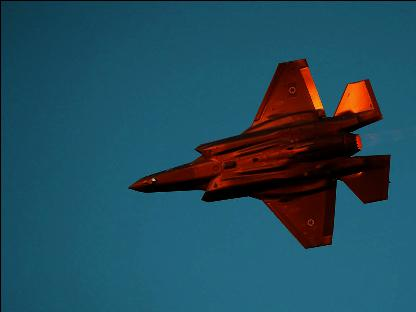F22: (127, 57, 391, 247)
